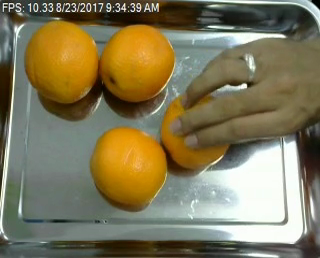Orange: (91, 127, 169, 207), (25, 20, 98, 101), (100, 22, 174, 101)
